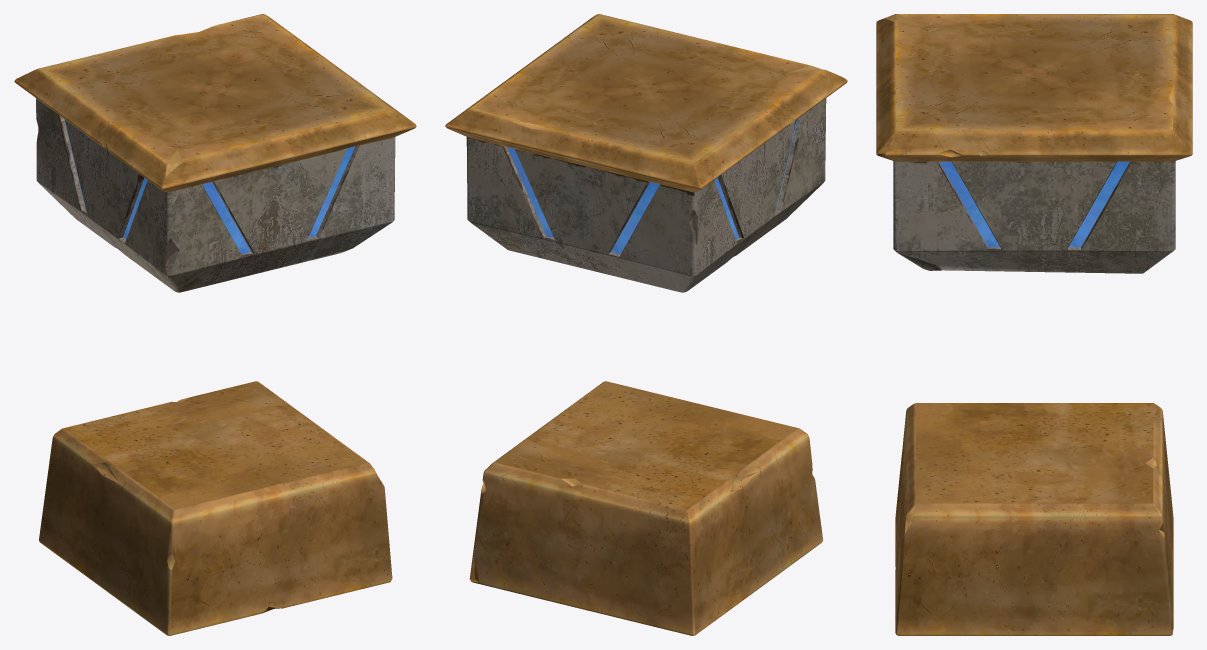
3 views of the same model, side by side, from view 1: azimuth 30°, elevation 25°; view 2: azimuth 150°, elevation 25°; view 3: azimuth 270°, elevation 25° (orthographic). The views are drawn at different scales.
Parts seen in each view (by area): view 1: SM_Rotating_Fire_Column_Trap_01_LOD0; view 2: SM_Rotating_Fire_Column_Trap_01_LOD0; view 3: SM_Rotating_Fire_Column_Trap_01_LOD0.
Boxes of the visible parts, x1,y1,x2,y2 form: SM_Rotating_Fire_Column_Trap_01_LOD0: (14, 14, 416, 635); SM_Rotating_Fire_Column_Trap_01_LOD0: (445, 14, 847, 635); SM_Rotating_Fire_Column_Trap_01_LOD0: (876, 14, 1192, 635).
Size of the model in its own units: 1.14 by 2 by 1.14.
Materials: 3 (3 with a texture image).
